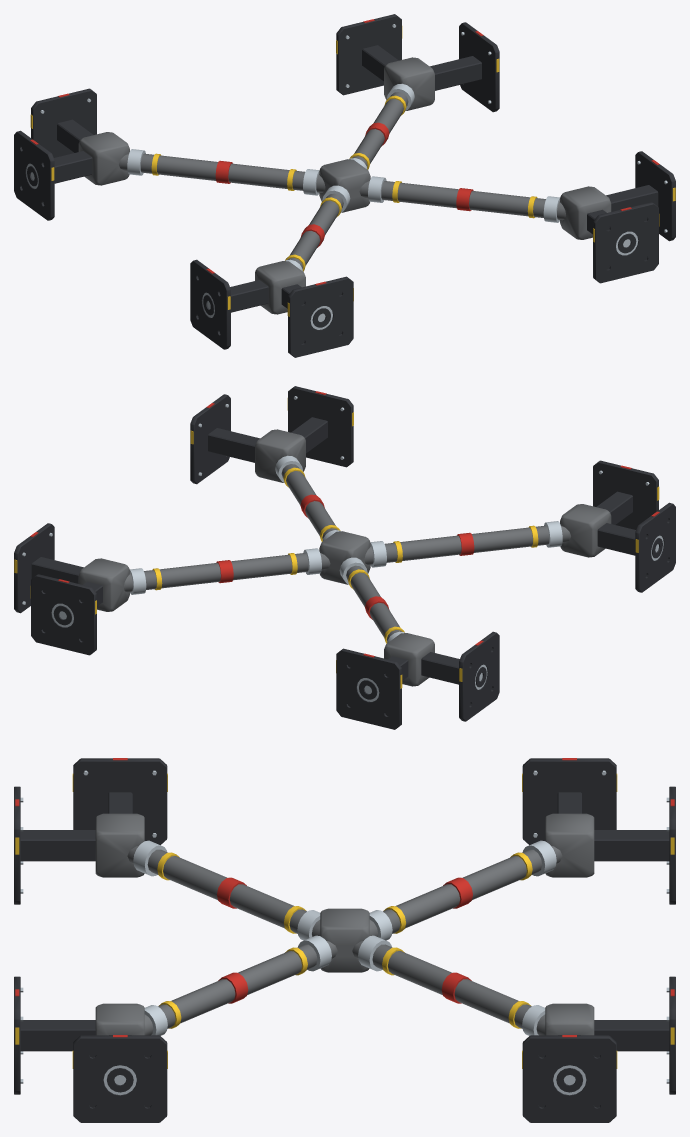
File: R4C_ROD_CROSS.glb
3 views of the same model, one above another, from view 1: azimuth 30°, elevation 25°; view 2: azimuth 150°, elevation 25°; view 3: azimuth 270°, elevation 25° (orthographic). The views are drawn at different scales.
Visible parts, largest first — view 1: R4C_ROD_CROSS; view 2: R4C_ROD_CROSS; view 3: R4C_ROD_CROSS.
Part boxes in pixels (<box>): R4C_ROD_CROSS: <box>14,14,675,357</box>; R4C_ROD_CROSS: <box>14,386,675,729</box>; R4C_ROD_CROSS: <box>14,758,675,1122</box>.
Bounding box in the file's own units: 1.62 × 0.2316 × 1.62.
